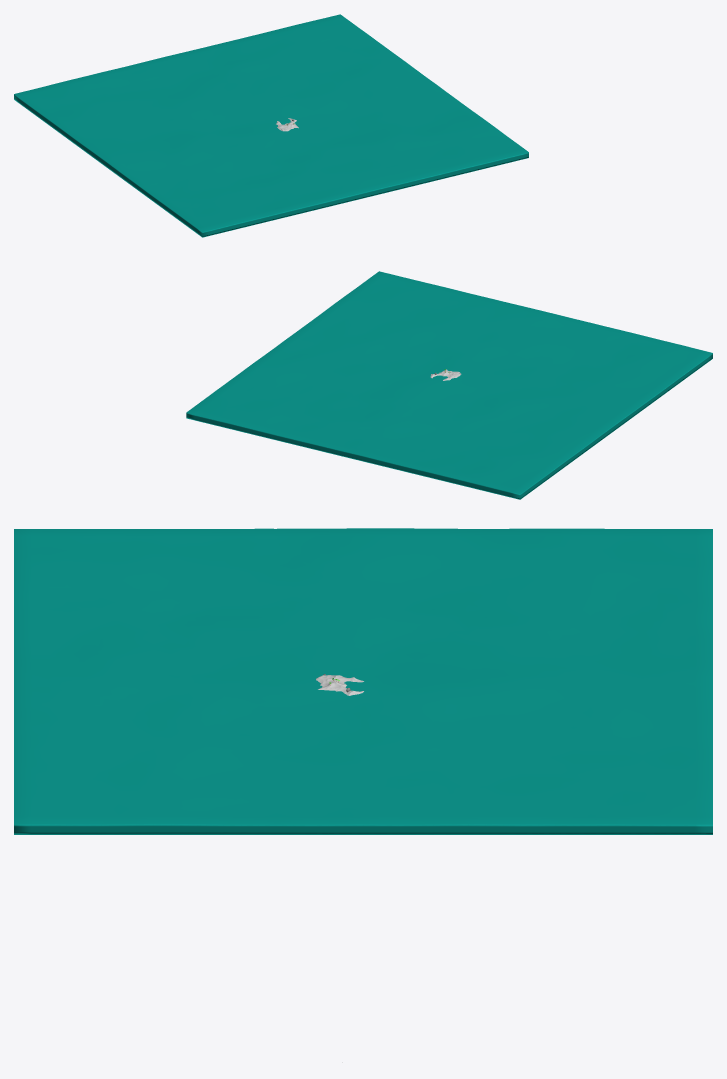
The model's file is Island2.gltf.
3 views of the same model, one above another, from view 1: azimuth 30°, elevation 25°; view 2: azimuth 150°, elevation 25°; view 3: azimuth 270°, elevation 25° (orthographic). The views are drawn at different scales.
Parts seen in each view (by area): view 1: Water; view 2: Water; view 3: Water.
Boxes of the visible parts, x1=… form: Water: x1=14, y1=14, x2=528, y2=237; Water: x1=186, y1=271, x2=712, y2=499; Water: x1=14, y1=528, x2=712, y2=834.
Size of what is drawn, in the model's own units: 36.61 by 0.5414 by 20.03.
